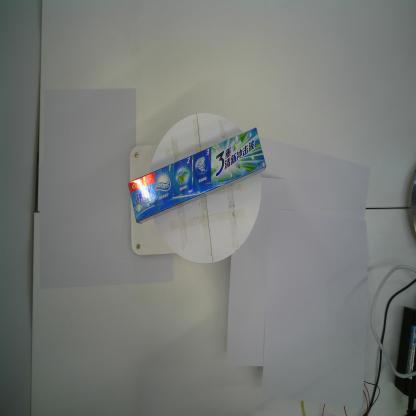Personal Hygiene: (127, 127, 267, 225)
